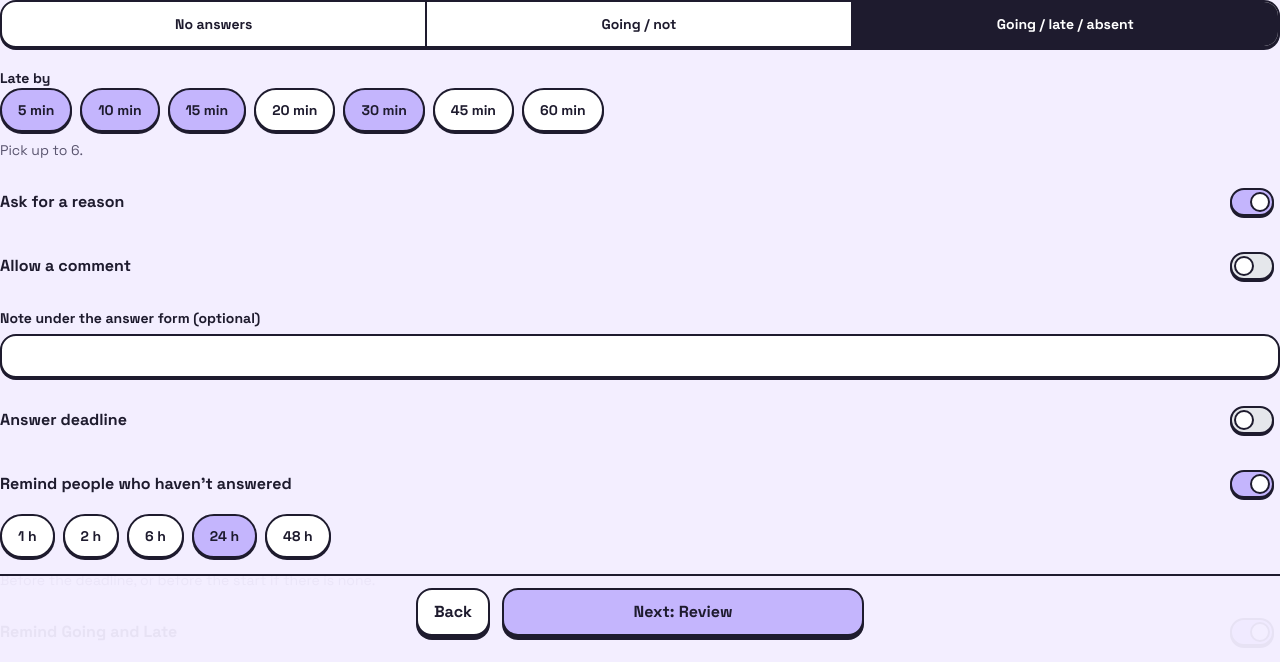
Scenario: ResponsesStep › offers no deadline day after the meeting day
This screenshot has width=1280, height=662.
Click the switch named "Answer deadline" in the row of "Answer deadline". click: (1252, 420)
box: [1224, 398, 1279, 442]
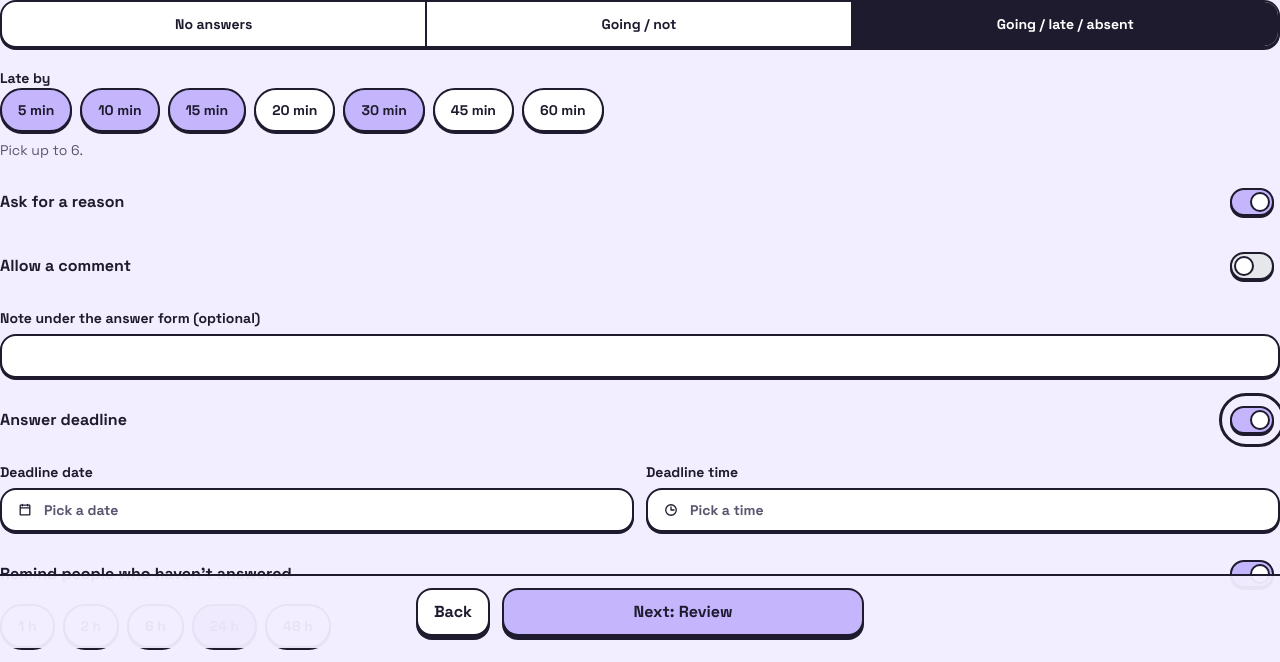
Click the button "Pick a date". click: (81, 510)
box: [0, 488, 634, 532]
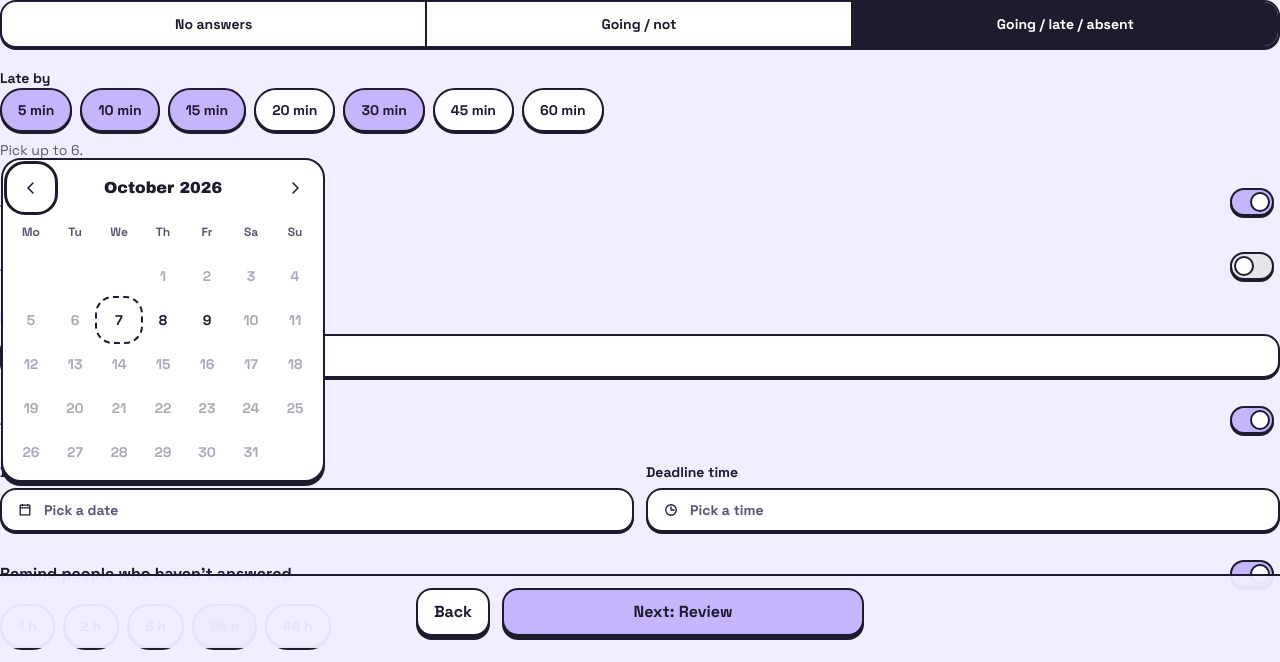
Result: the button named "October 9th, 2026" is enabled at [185, 298, 229, 342]
Result: the button named "October 10th, 2026" is disabled at [229, 298, 273, 342]
